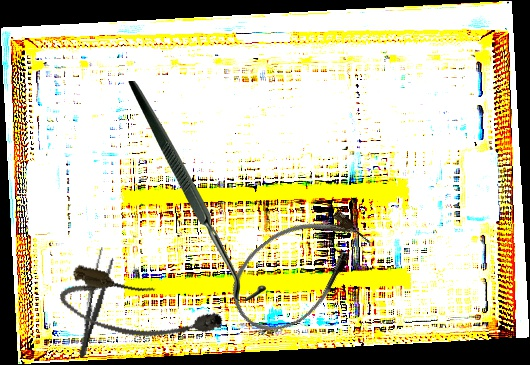Cannula: (214, 190, 383, 349), (54, 261, 228, 361)
Dressing Forceps: (73, 245, 116, 361)
Hook Surgical: (128, 81, 267, 301)
